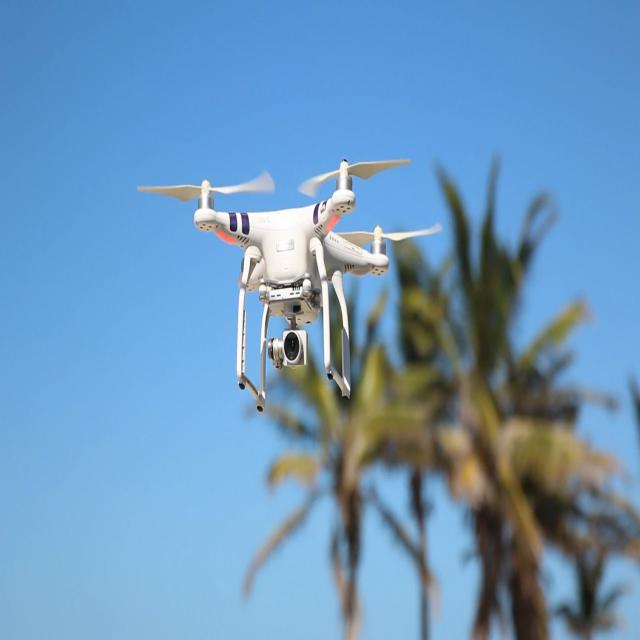Drone: (141, 148, 440, 418)
